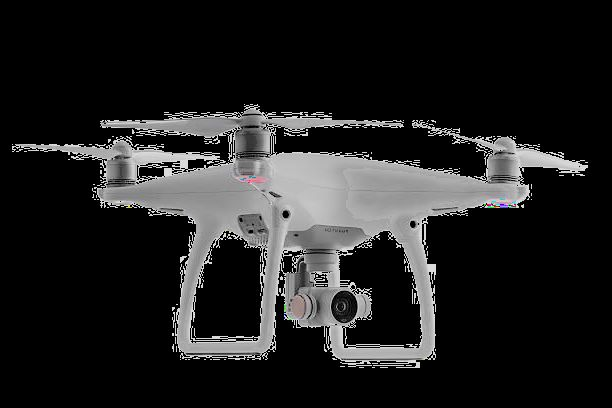Drone: (10, 102, 591, 366)
